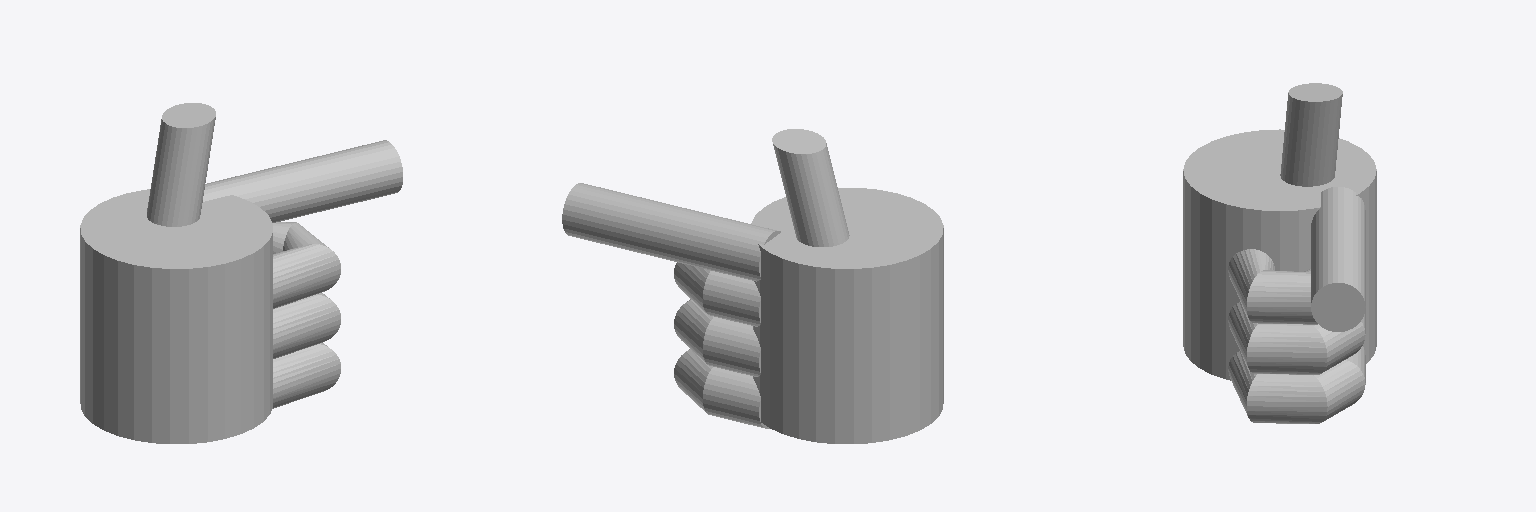
File: Hand.obj
3 views of the same model, side by side, from view 1: azimuth 30°, elevation 25°; view 2: azimuth 150°, elevation 25°; view 3: azimuth 270°, elevation 25° (orthographic).
Visible parts, largest first — view 1: Circle.002_Circle.004; view 2: Circle.002_Circle.004; view 3: Circle.002_Circle.004.
Boxes of the visible parts, x1=… form: Circle.002_Circle.004: x1=80, y1=103, x2=402, y2=443; Circle.002_Circle.004: x1=562, y1=129, x2=943, y2=443; Circle.002_Circle.004: x1=1183, y1=83, x2=1376, y2=423.
Size of the model in its own units: 0.959 by 0.7962 by 0.4931.